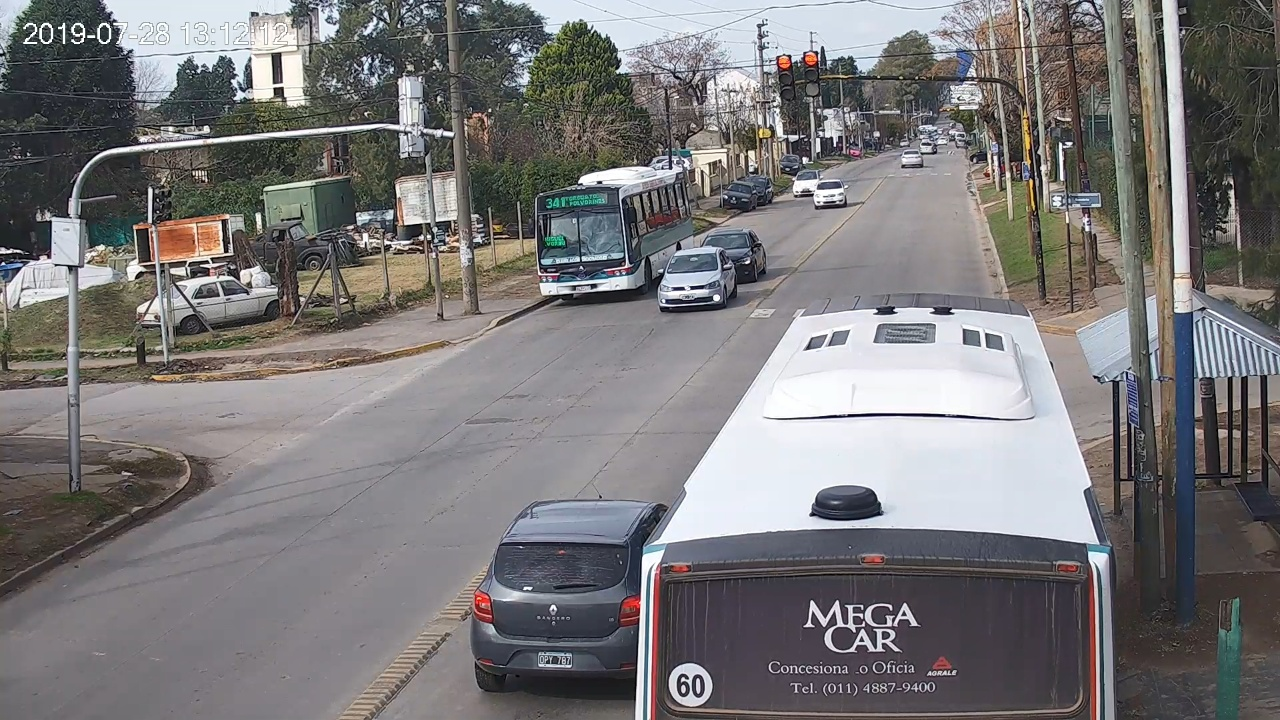bus: (635, 295, 1115, 720)
front car: (657, 247, 737, 309)
traffic light: (777, 55, 797, 100), (804, 51, 821, 97)
